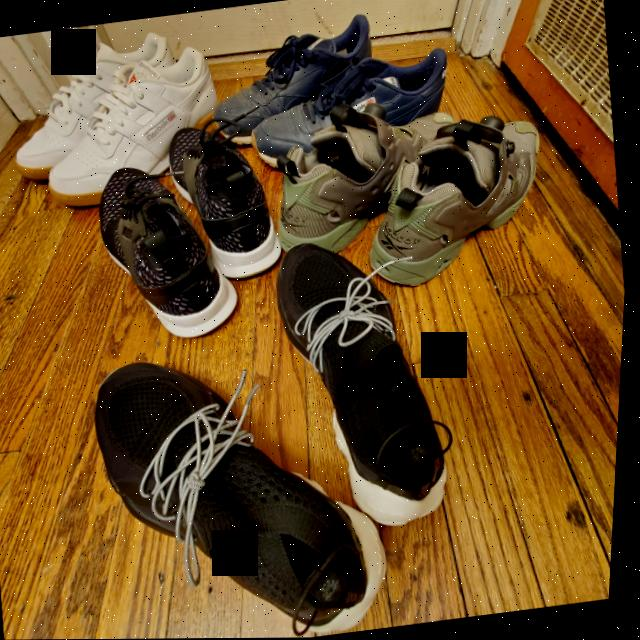shoes: (70, 320, 416, 639), (251, 213, 485, 557), (0, 16, 251, 220), (69, 141, 262, 365), (359, 97, 578, 281), (237, 38, 476, 188), (185, 3, 401, 163), (149, 100, 298, 298), (264, 107, 473, 243)
